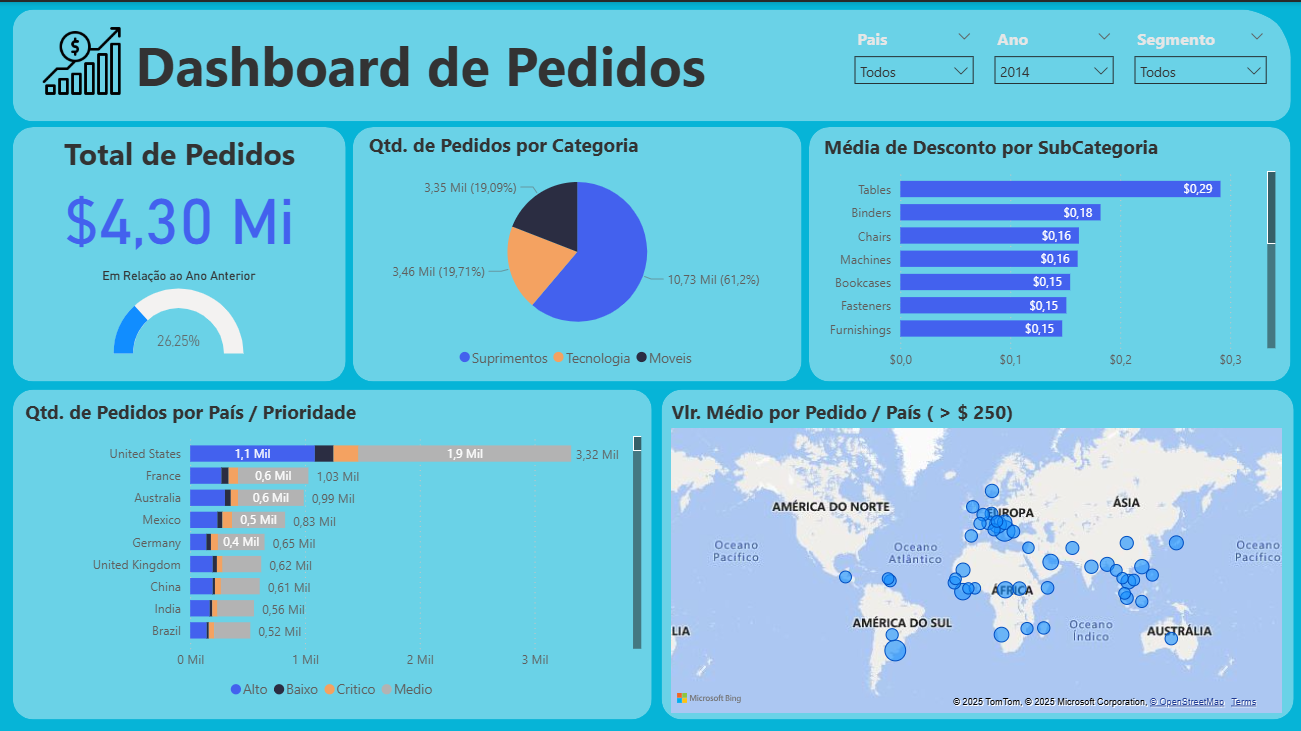

The dashboard page shown, as its layout file describes it:
{"tool":"powerbi","page":{"name":"Vendas","canvas":[1280,720],"ordinal":0},"visuals":[{"type":"shape","box":[13.6,6.8,1254.7,109.9],"z":0},{"type":"shape","box":[13.6,122.6,326.8,250],"z":1000},{"type":"shape","box":[347.2,122.6,440.6,250],"z":2000},{"type":"shape","box":[795.6,122.6,472.7,250],"z":3000},{"type":"shape","box":[13.6,380.3,627.4,323.9],"z":4000},{"type":"shape","box":[649.7,380.3,620.5,323.9],"z":5000},{"type":"card","title":"Total de Pedidos","fields":{"Values":["Sum(dataset.Total_Vendas)"]},"box":[19.5,127.4,315.1,120.6],"z":6000},{"type":"pieChart","title":"Total de Pedidos por Categoria","fields":{"Category":["dataset.Categoria"],"Y":["CountNonNull(dataset.ID_Pedido)"]},"box":[357.9,127.4,419.2,240.2],"z":7000},{"type":"barChart","title":"Total de Pedidos por País e Prioridade","fields":{"Category":["dataset.Pais"],"Y":["CountNonNull(dataset.ID_Pedido)"],"Series":["dataset.Prioridade"]},"box":[20.4,389.1,614.7,304.4],"z":8000},{"type":"barChart","fields":{"Category":["dataset.SubCategoria"],"Y":["Avg(dataset.Desconto)"]},"box":[805.3,129.4,453.3,240.2],"z":9000},{"type":"map","title":"Média de Pedidos por País( > 250)","fields":{"Category":["dataset.Pais"],"Size":["Avg(dataset.Total_Vendas)"]},"box":[655.6,389.1,608.9,314.2],"z":10000},{"type":"slicer","fields":{"Values":["dataset.Pais"]},"box":[829.7,19.5,137.1,62.2],"z":11000},{"type":"slicer","fields":{"Values":["dataset.Segmento"]},"box":[1104,19.5,149.8,61.3],"z":12000},{"type":"slicer","fields":{"Values":["Calendario.Ano"]},"box":[966.8,19.5,137.1,61.3],"z":13000},{"type":"textbox","box":[129.4,19.5,598.2,84.6],"z":14000},{"type":"image","box":[33.1,12.6,96.3,91.4],"z":15000},{"type":"gauge","title":"Em Relação ao Ano Anterior","fields":{"Y":["Medidas.% Crescimento Ano a Ano"]},"box":[36.8,261.2,279.2,88.9],"z":16000}]}

Visuals, with their boxes in screenshot pixels (x1, y1, x2, y2), scaled from the page's 1280x720 canvas onto the 1301x731 screenshot:
shape: locate(14, 7, 1289, 118)
shape: locate(14, 124, 346, 378)
shape: locate(353, 124, 801, 378)
shape: locate(809, 124, 1289, 378)
shape: locate(14, 386, 652, 715)
shape: locate(660, 386, 1291, 715)
"Total de Pedidos" card: locate(20, 129, 340, 252)
"Total de Pedidos por Categoria" pieChart: locate(364, 129, 790, 373)
"Total de Pedidos por País e Prioridade" barChart: locate(21, 395, 646, 704)
barChart - dataset.SubCategoria x Avg(dataset.Desconto): locate(819, 131, 1279, 375)
"Média de Pedidos por País( > 250)" map: locate(666, 395, 1285, 714)
slicer - dataset.Pais: locate(843, 20, 983, 83)
slicer - dataset.Segmento: locate(1122, 20, 1274, 82)
slicer - Calendario.Ano: locate(983, 20, 1122, 82)
textbox: locate(132, 20, 740, 106)
image: locate(34, 13, 132, 106)
"Em Relação ao Ano Anterior" gauge: locate(37, 265, 321, 355)
